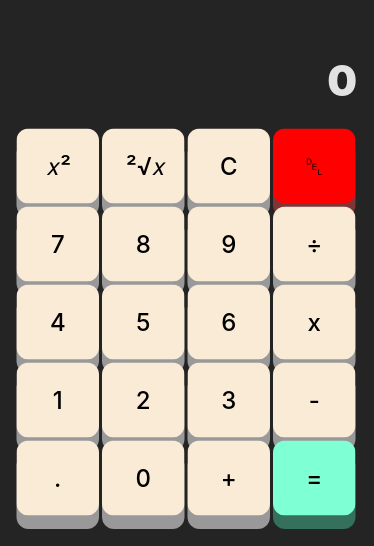
Test case: Keyboard test › should subract numbers
The width and height of the screenshot is (374, 546).
Click the button "5": (143, 322) [102,284,184,360]
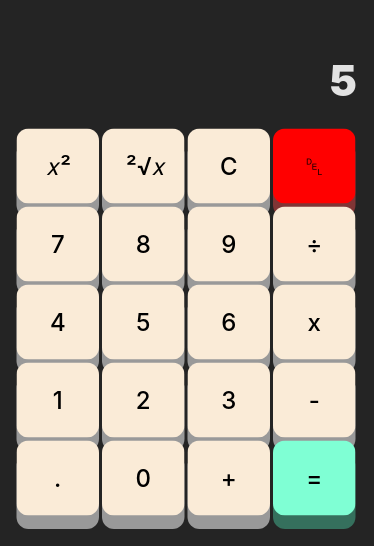
Click the button "0": (143, 478) [102,440,184,516]
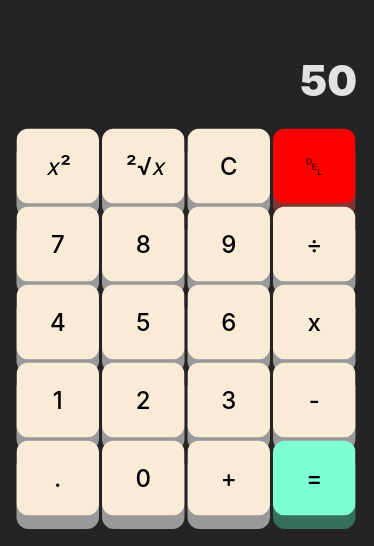
Click the button "-": (314, 400) [273,362,356,438]
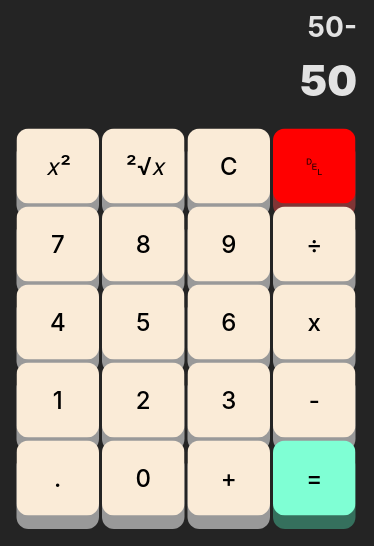
Click the button "1": (58, 400) [16,362,99,438]
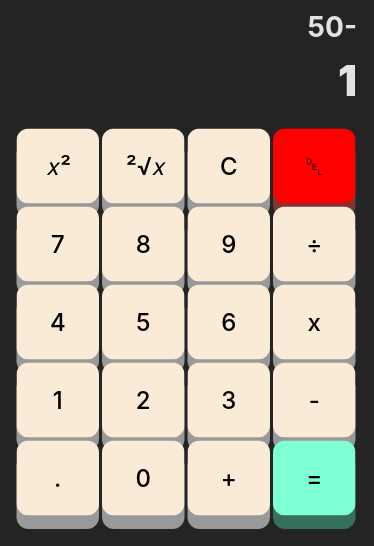
Click the button "2": (143, 400) [102,362,184,438]
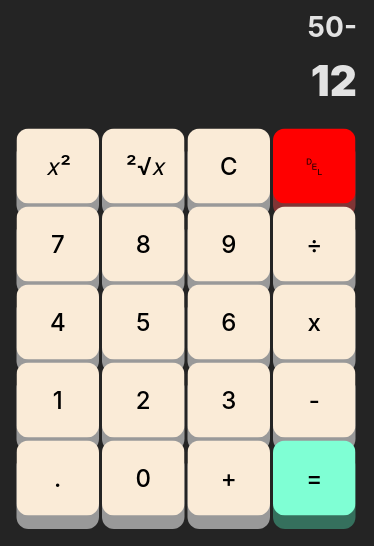
Click the button "=": (314, 478) [273,440,356,516]
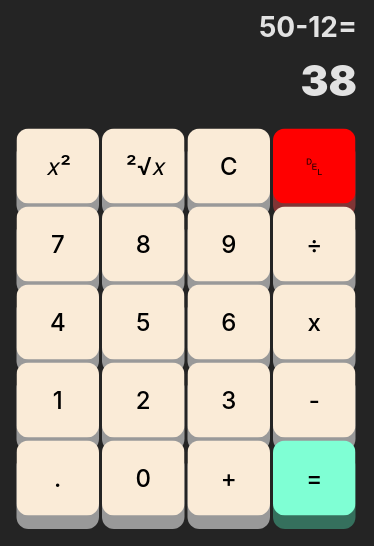
expect the text with test id "mainDisplayVal" reads "38": met, box [300,55,357,106]
